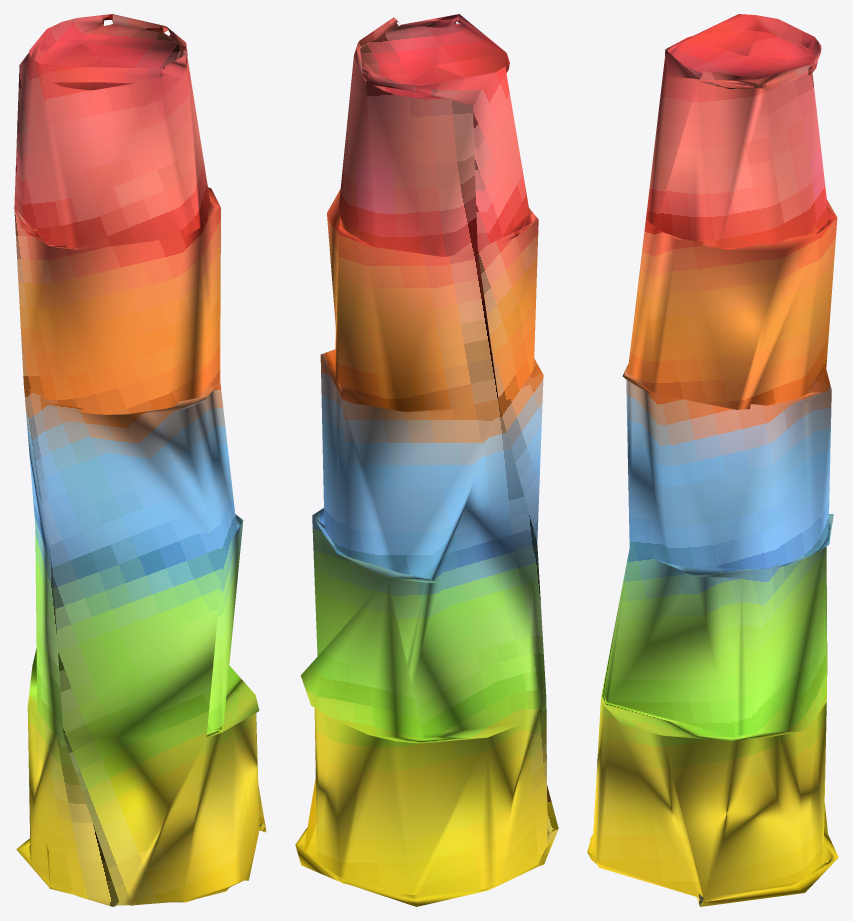
The model's file is Baby_Elements_Stacking_Cups-low.glb.
3 renders of one model, left to right at view 1: azimuth 30°, elevation 25°; view 2: azimuth 150°, elevation 25°; view 3: azimuth 270°, elevation 25°, orthographic. The views are drawn at different scales.
Parts seen in each view (by area): view 1: Baby_Elements_Stacking_Cups; view 2: Baby_Elements_Stacking_Cups; view 3: Baby_Elements_Stacking_Cups.
Boxes of the visible parts, x1=… form: Baby_Elements_Stacking_Cups: x1=14, y1=14, x2=266, y2=906; Baby_Elements_Stacking_Cups: x1=295, y1=14, x2=558, y2=906; Baby_Elements_Stacking_Cups: x1=587, y1=14, x2=838, y2=906.
Bounding box in the file's own units: 0.0983 × 0.3442 × 0.0975.
Materials: 1 (1 with a texture image).
